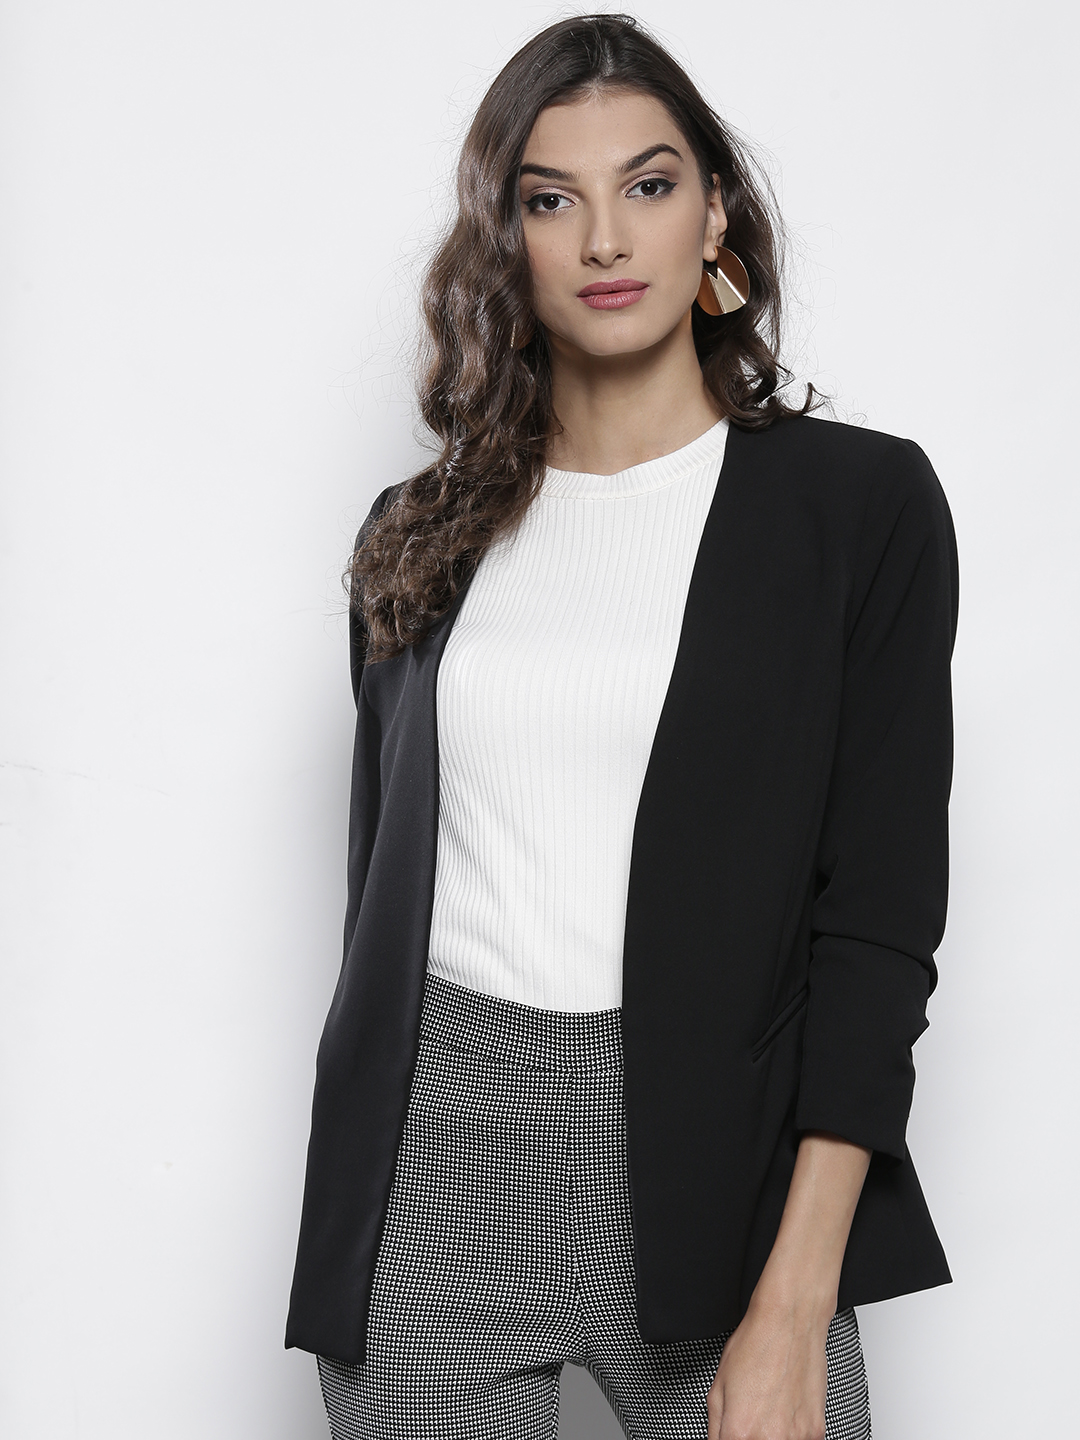F_W_suit jacket: (303, 432, 974, 1251)
